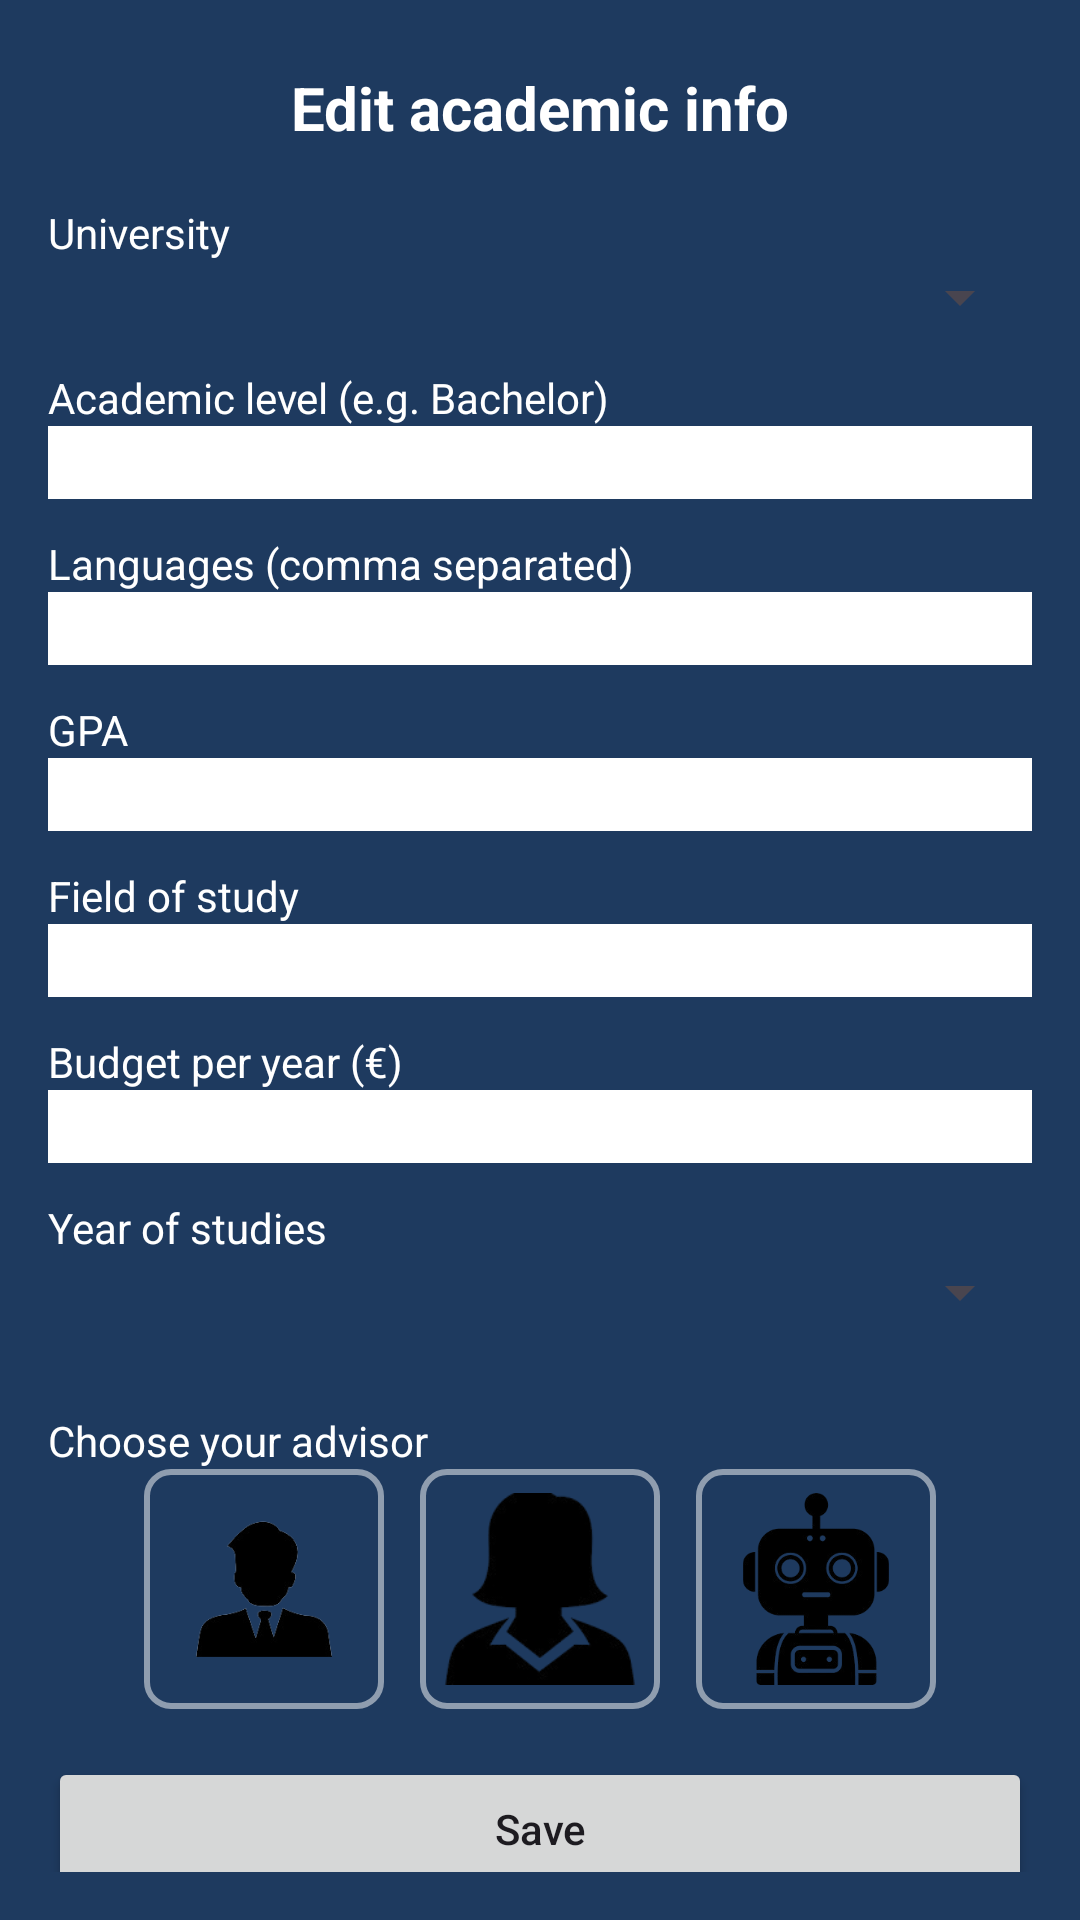

Where to tap for icons on this 1080 x 1920 app screen, as point (x, y):
Female advisor: point (540, 1589)
Male advisor: point (264, 1589)
Robot advisor: point (816, 1589)
